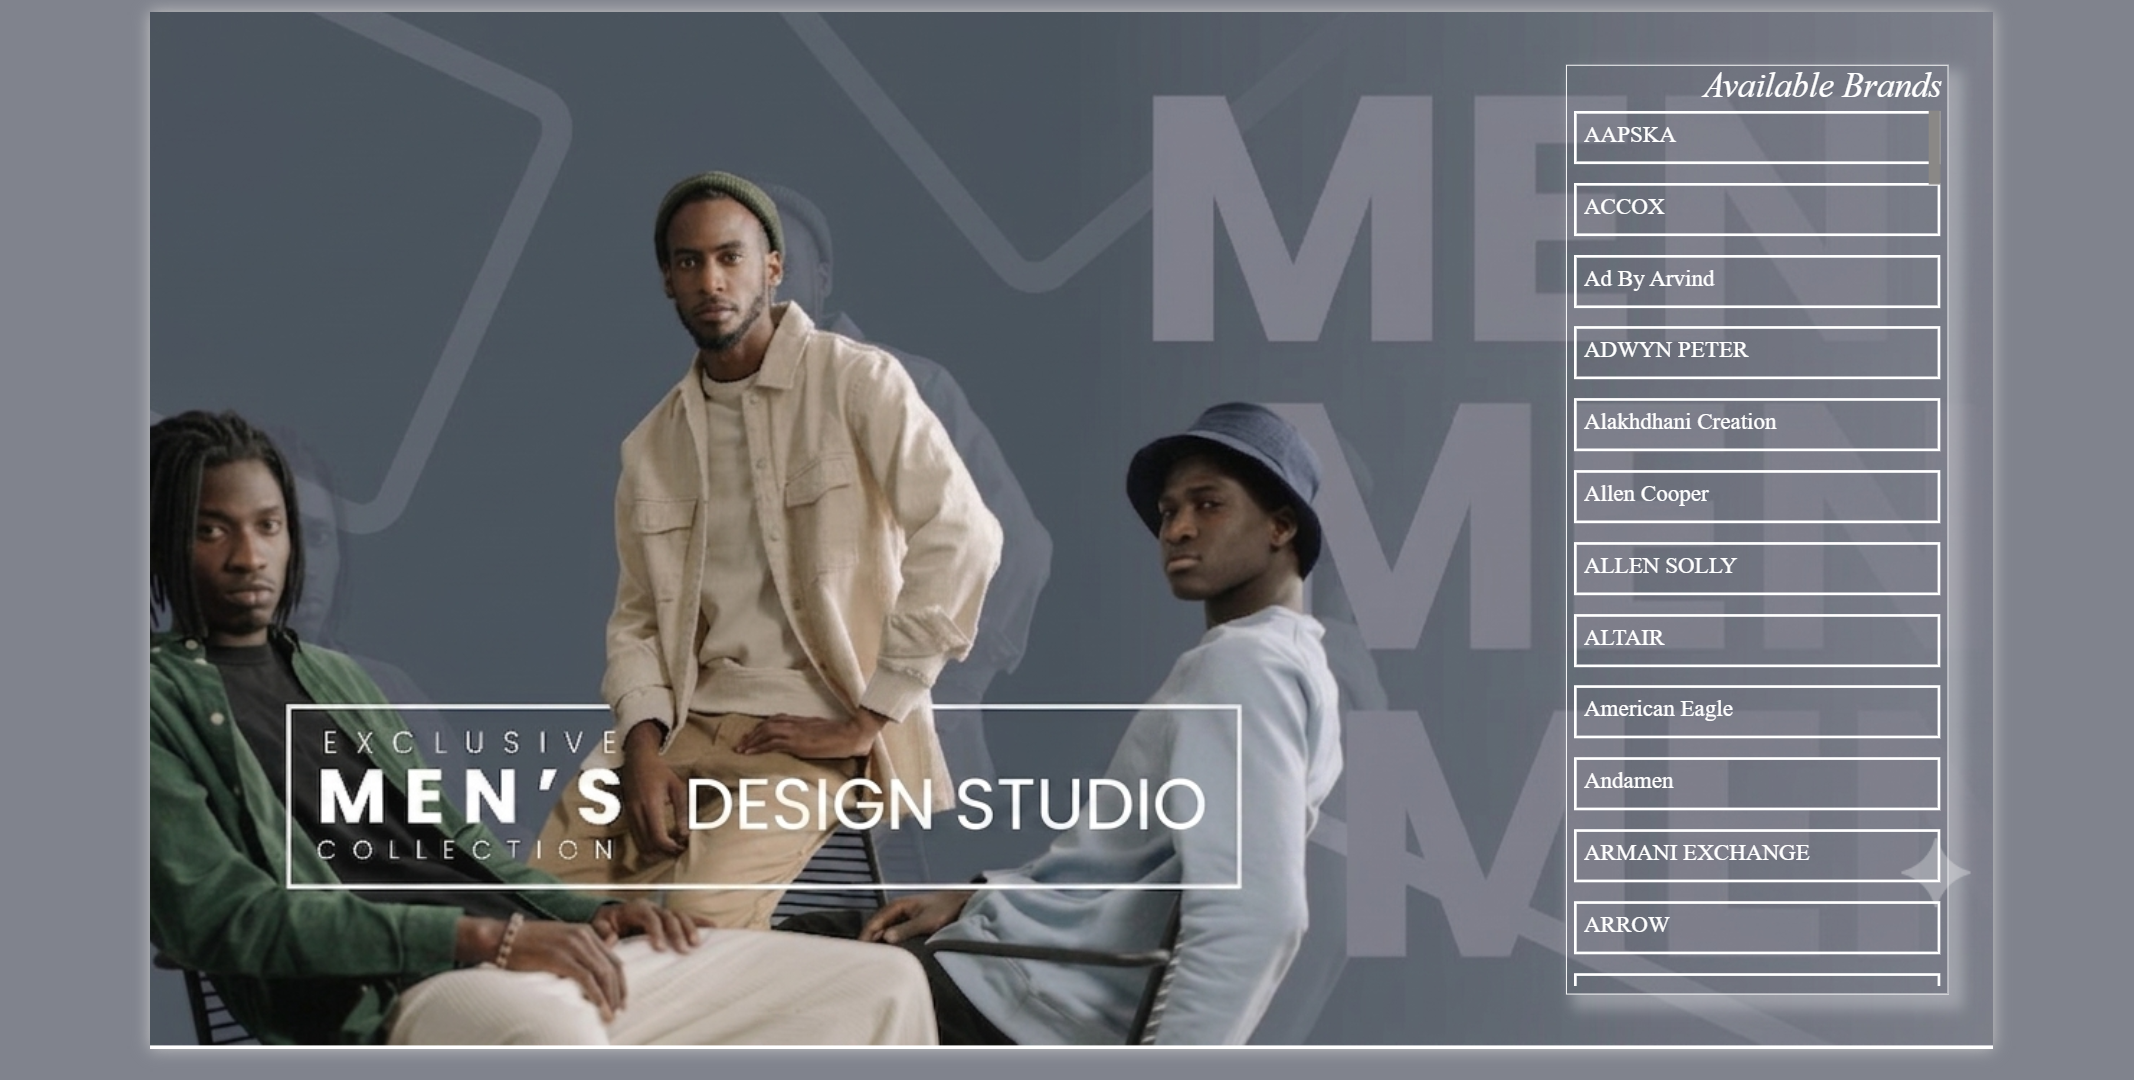

The page's visual inventory and layout, read from the dashboard file:
{"tool":"powerbi","page":{"name":"Brands","canvas":[1280,720],"ordinal":0},"visuals":[{"type":"multiRowCard","title":"Available Brands","fields":{"Values":["Men+Tshirt.Brand"]},"box":[982.9,37.1,265.7,645.7],"z":0}]}

Visuals, with their boxes on the page's 1280x720 design canvas (x1, y1, x2, y2). These are canvas units, not pixel positions in the 2134x1080 screenshot, which may show the page scaled, cropped or inside an application window:
"Available Brands" multiRowCard: x1=983 y1=37 x2=1249 y2=683
